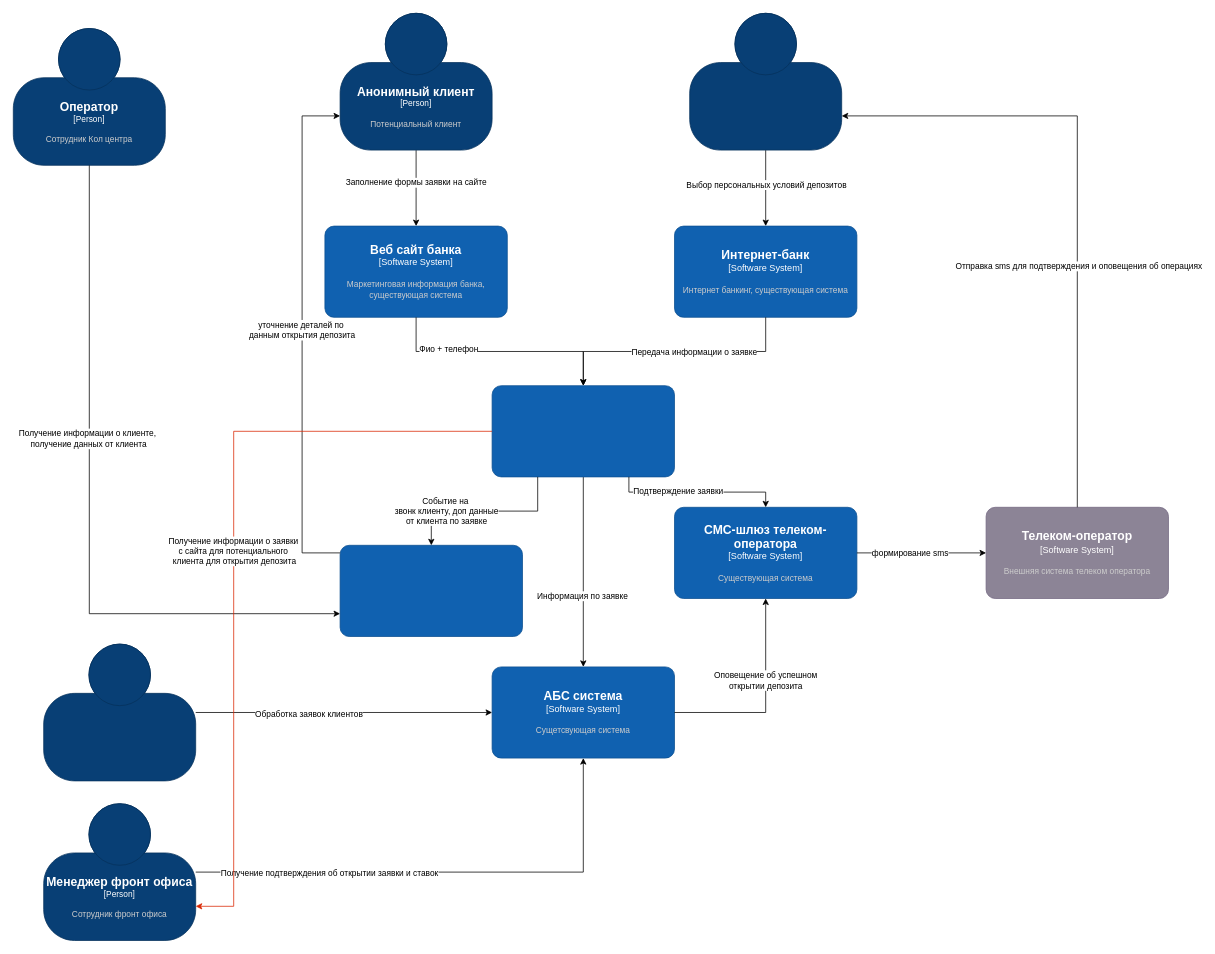
Some shapes in this 1215 by 954 pixel diagram are drawn without their labels. The centre of each missing label's shape, as x and y in pixels:
"Авторизованный клиент [Person] Уже является клиентом банка" goes at (765,81).
"Кол центр [Software System] Существующая система" goes at (430,590).
"Менеджер бэк офиса [Person] Сотрудник бэк офиса" goes at (119,712).
"Сервис обработки заявок [Software System] Обработка заявок" goes at (582,431).
